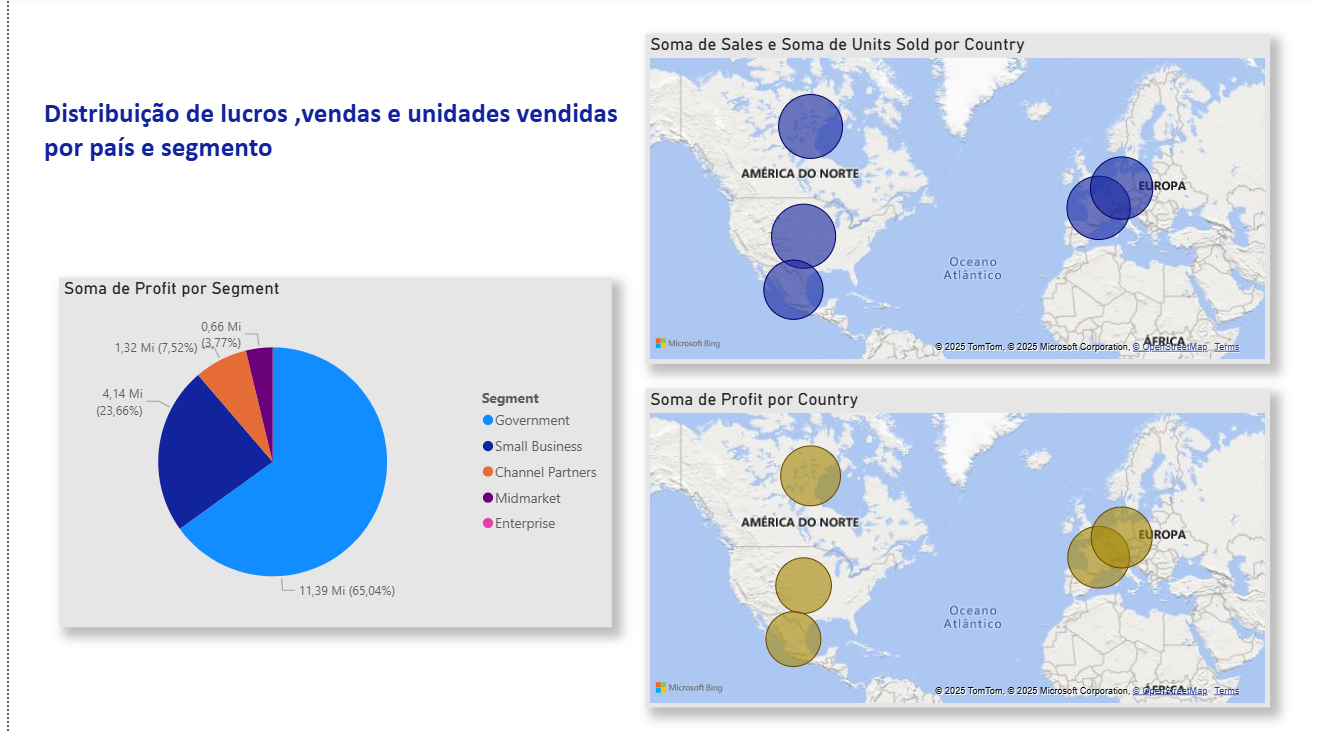

The page's visual inventory and layout, read from the dashboard file:
{"tool":"powerbi","page":{"name":"Página 3","canvas":[1280,720],"ordinal":2},"visuals":[{"type":"pieChart","fields":{"Category":["financials.Segment"],"Y":["Sum(financials.Profit)"]},"box":[48.9,275.1,540.5,342.4],"z":0},{"type":"textbox","box":[29.3,92.9,574.7,81.9],"z":1000},{"type":"map","fields":{"Category":["financials.Country"],"Size":["Sum(financials. Sales)"]},"box":[622.4,36.7,611.4,322.8],"z":1001},{"type":"map","fields":{"Category":["financials.Country"],"Size":["Sum(financials.Profit)"]},"box":[622.4,384,611.4,311.8],"z":1002}]}

Visuals, with their boxes in screenshot pixels (x1, y1, x2, y2), scaled from the page's 1280x720 canvas onto the 1317x731 screenshot:
pieChart - financials.Segment x Sum(financials.Profit): locate(50, 279, 606, 627)
textbox: locate(30, 94, 621, 177)
map - financials.Country x Sum(financials. Sales): locate(640, 37, 1269, 365)
map - financials.Country x Sum(financials.Profit): locate(640, 390, 1269, 706)
